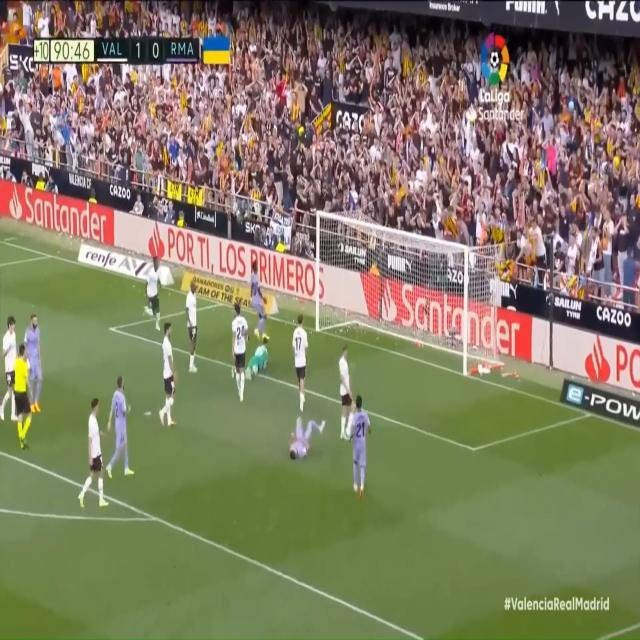goalkeeper: (242, 331, 272, 386)
player: (79, 393, 108, 510), (105, 372, 135, 480), (351, 396, 373, 502), (287, 414, 328, 467), (157, 321, 176, 431), (24, 313, 42, 420), (0, 317, 18, 424), (230, 305, 249, 402), (248, 260, 271, 340), (338, 340, 356, 442), (141, 255, 164, 329), (292, 312, 309, 412), (184, 277, 201, 376)
referee: (14, 343, 34, 455)
